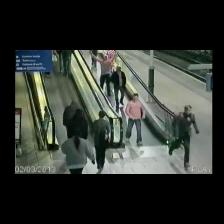person: (169, 106, 199, 168), (62, 132, 95, 173), (125, 94, 145, 145), (91, 51, 111, 96), (94, 111, 109, 169), (63, 100, 81, 138), (68, 109, 88, 139), (111, 67, 126, 106), (62, 50, 73, 76), (107, 50, 116, 71), (56, 50, 62, 72), (90, 50, 97, 56)
